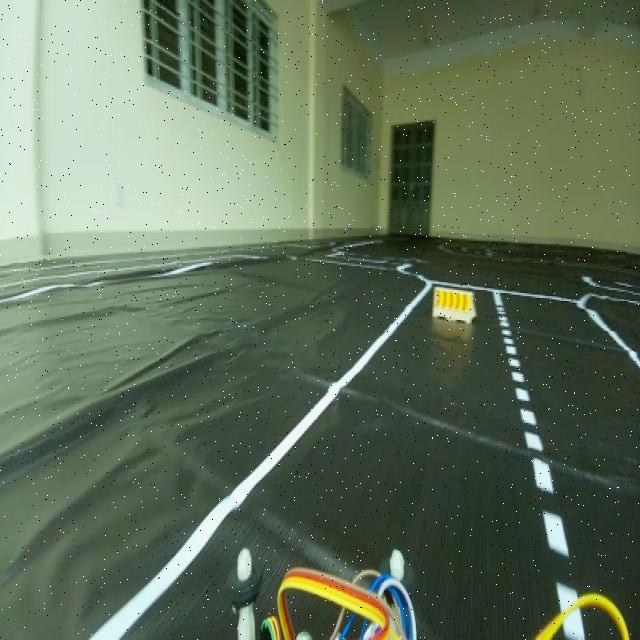roadblock: (426, 272, 480, 336)
